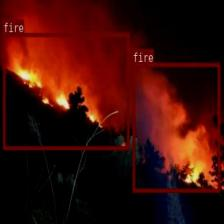fire: (3, 32, 128, 150), (132, 62, 219, 192)
